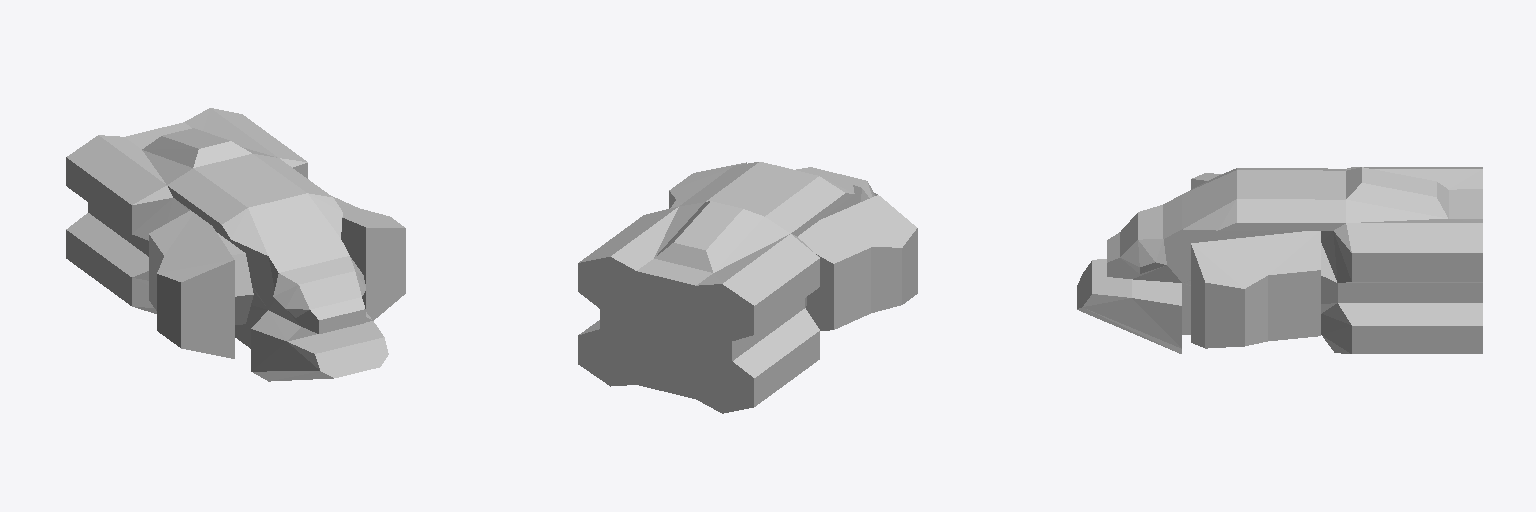
3 views of the same model, side by side, from view 1: azimuth 30°, elevation 25°; view 2: azimuth 150°, elevation 25°; view 3: azimuth 270°, elevation 25° (orthographic).
Visible parts, largest first — view 1: Tur_MissileCorvette; view 2: Tur_MissileCorvette; view 3: Tur_MissileCorvette.
Boxes of the visible parts, x1,y1,x2,y2 form: Tur_MissileCorvette: [66, 108, 405, 381]; Tur_MissileCorvette: [578, 162, 917, 413]; Tur_MissileCorvette: [1077, 167, 1482, 353].
Bounding box in the file's own units: 26.87 × 17.84 × 40.56.